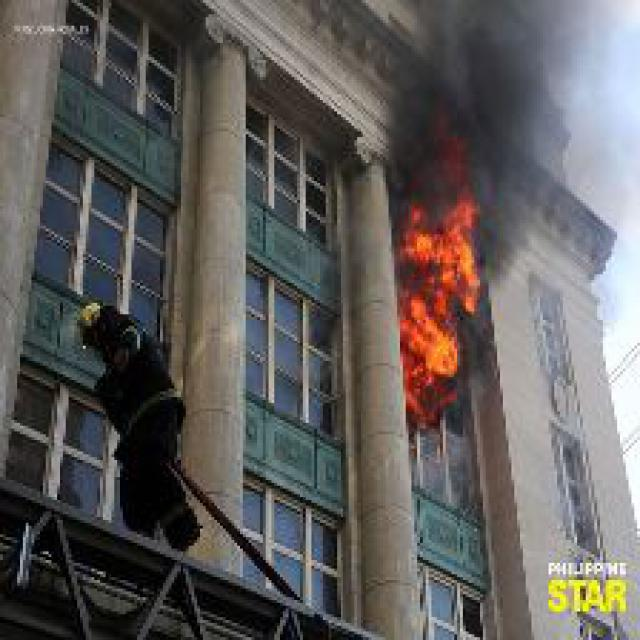fire: (394, 163, 489, 426)
